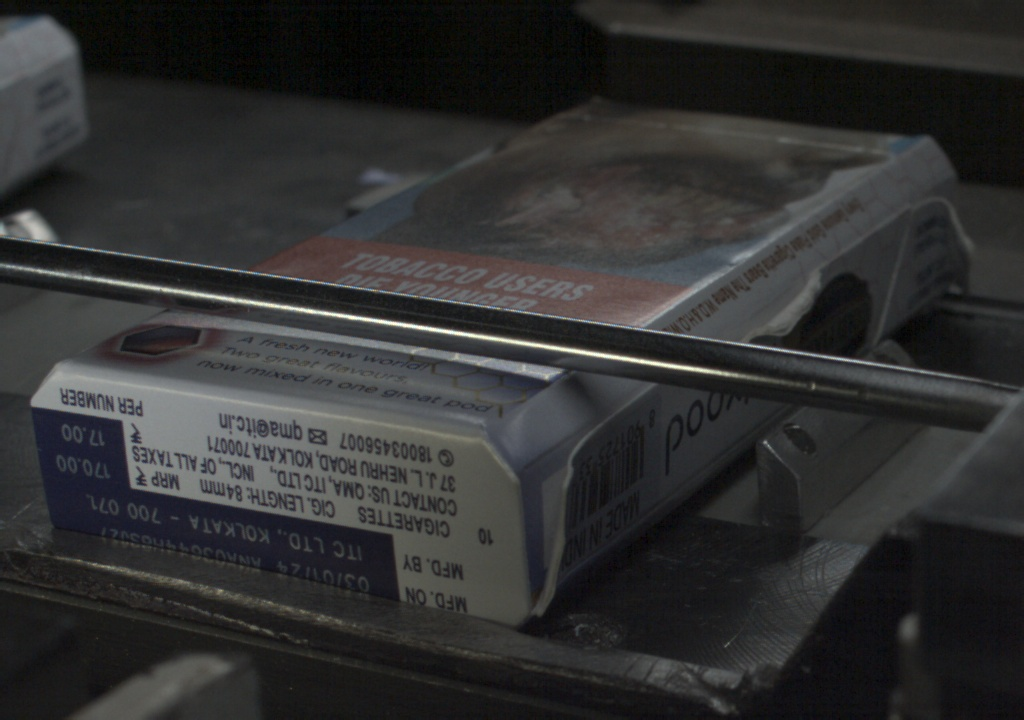g_bottom: (27, 383, 524, 630)
g_label: (36, 487, 399, 601)
g_lmiter: (750, 268, 840, 334)
ng_lmiter: (531, 427, 593, 615)
ng_miter: (921, 185, 982, 296)
price: (33, 416, 131, 486)
